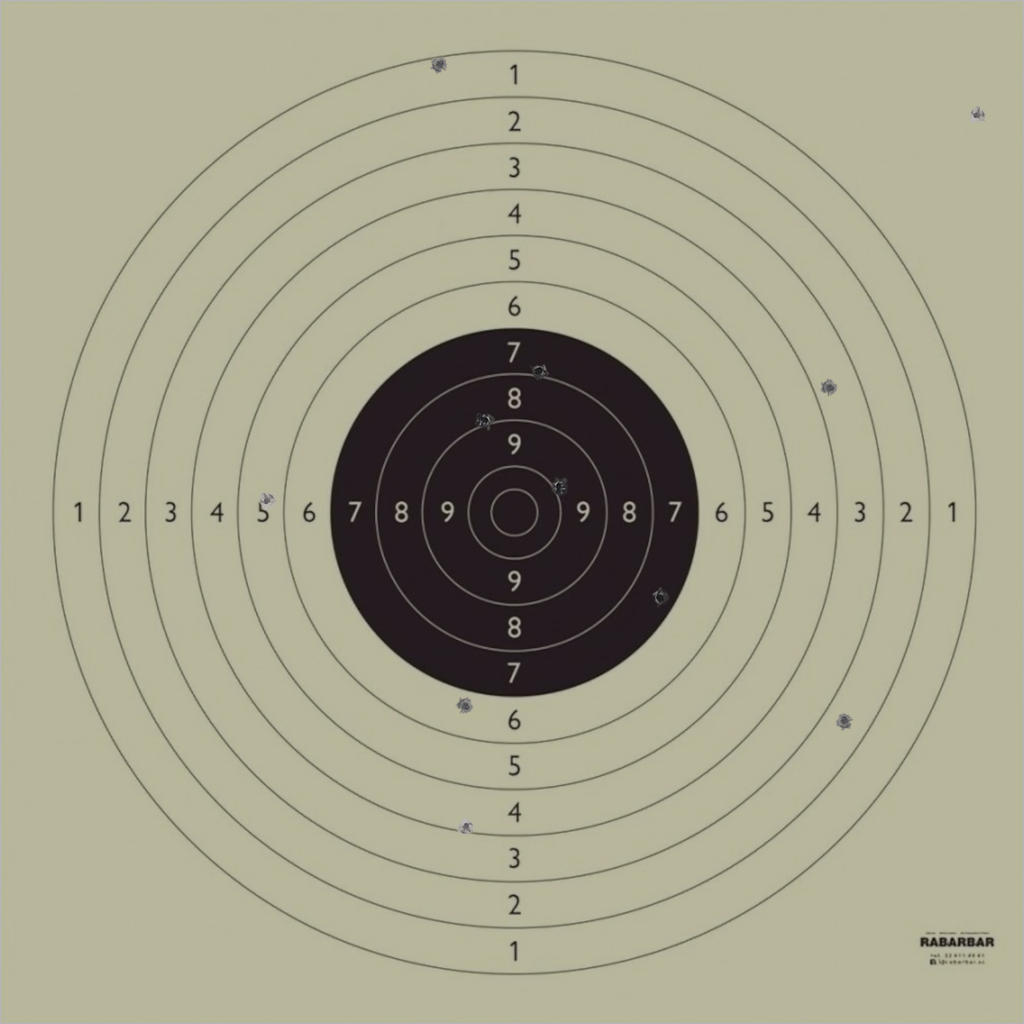0 punktow: (968, 106, 986, 124)
1 punkt: (430, 55, 449, 74)
10 punktow: (550, 477, 568, 495)
2 punkty: (835, 712, 854, 730)
3 punkty: (820, 378, 839, 397)
4 punkty: (457, 817, 475, 836)
5 punktow: (258, 491, 276, 510)
6 punktow: (456, 697, 475, 715)
7 punktow: (651, 588, 669, 607)
8 punktow: (530, 362, 548, 380)
9 punktow: (475, 411, 494, 429)
